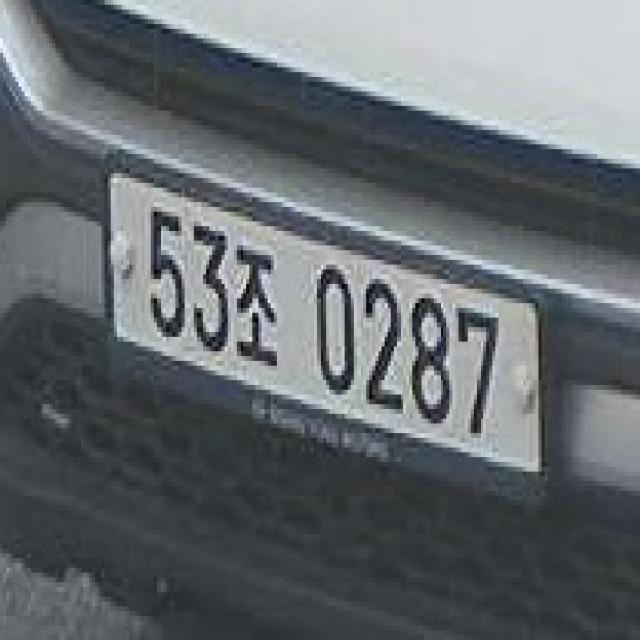0: (311, 245, 357, 409)
2: (363, 279, 406, 419)
3: (194, 212, 231, 356)
5: (142, 183, 188, 346)
7: (452, 303, 505, 443)
8: (400, 284, 452, 433)
jo: (231, 240, 292, 370)
license_plate: (92, 149, 560, 520)
